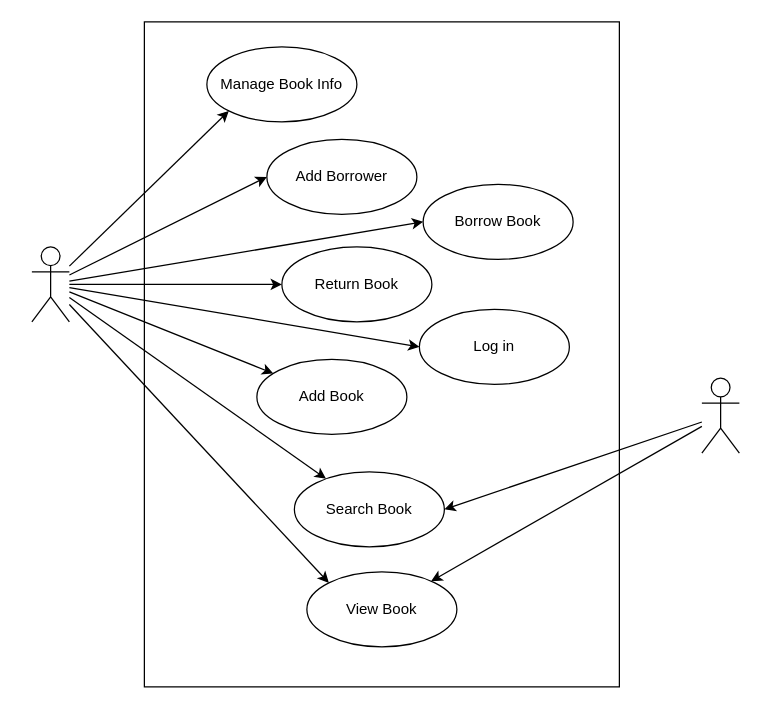
The diagram is 773 pixels wide and 709 high, and some of its shapes have lost their labels. Here are the shapes that lost their labels. From the top down, the centre of each, then its label:
At [50,284]: "Librarian".
At [720,415]: "Borrower".
